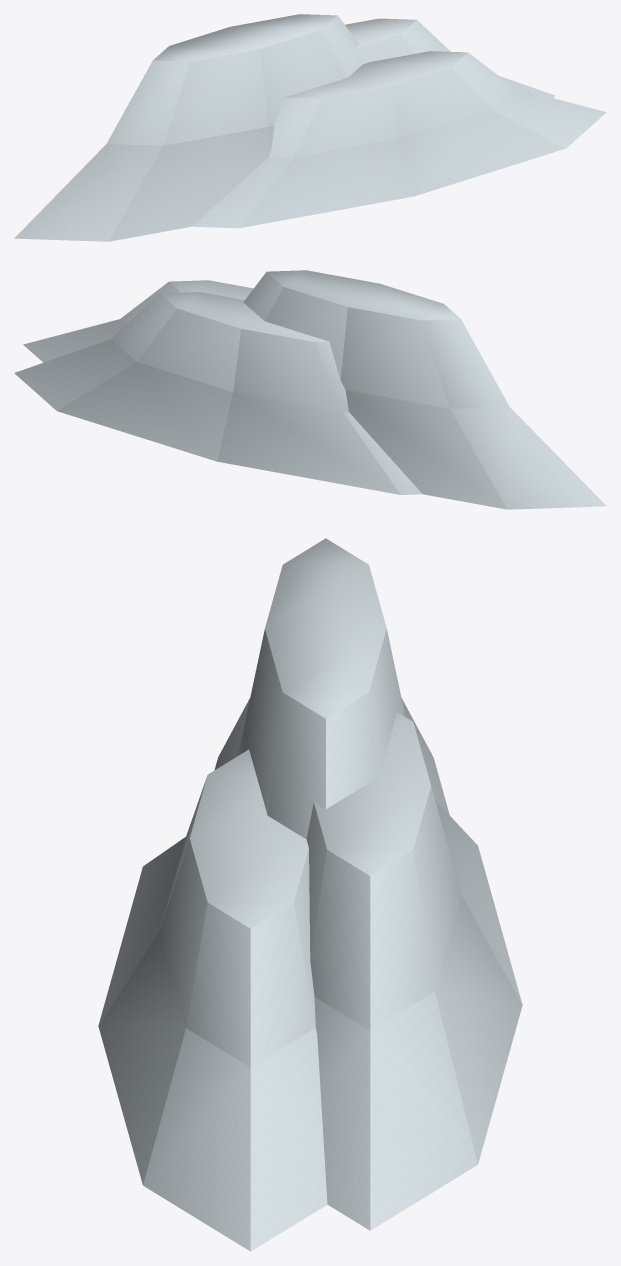
The model's file is plough-bank.glb.
3 renders of one model, top to bottom at view 1: azimuth 30°, elevation 25°; view 2: azimuth 150°, elevation 25°; view 3: azimuth 270°, elevation 25°, orthographic. The views are drawn at different scales.
Parts seen in each view (by area): view 1: plough-bank-snow-pile; view 2: plough-bank-snow-pile; view 3: plough-bank-snow-pile.
Part boxes in pixels (box(x1,y1,x2,y2)): plough-bank-snow-pile: box(14, 14, 606, 241); plough-bank-snow-pile: box(14, 270, 606, 509); plough-bank-snow-pile: box(98, 538, 522, 1251).
Size of the model in its own units: 5 by 1.2 by 1.6.
Materials: 1 (1 with a texture image).
